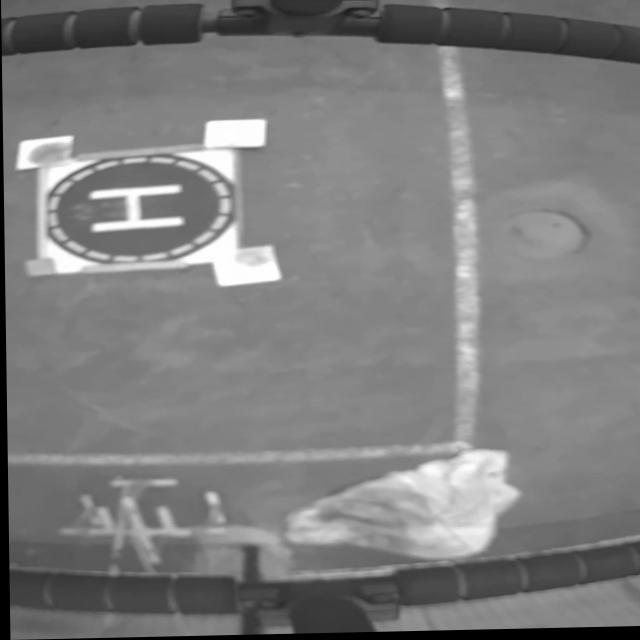Helipad: (86, 185, 184, 233)
